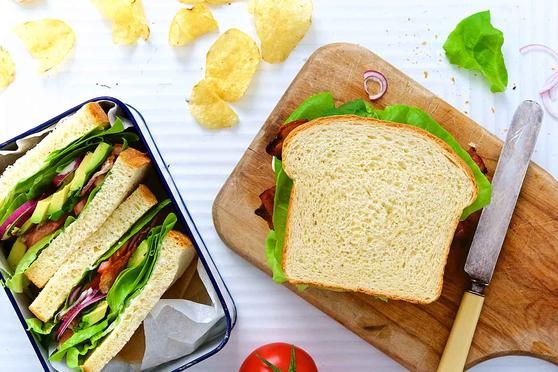white_bread: (272, 112, 462, 307)
